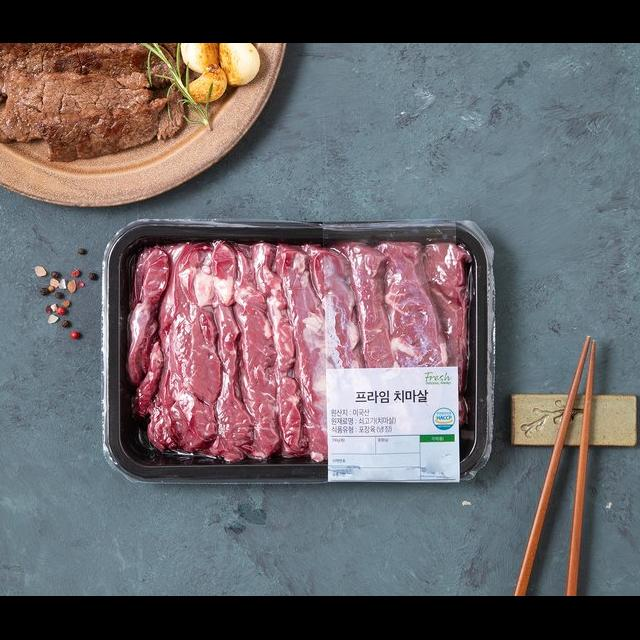beef: (113, 226, 492, 488)
